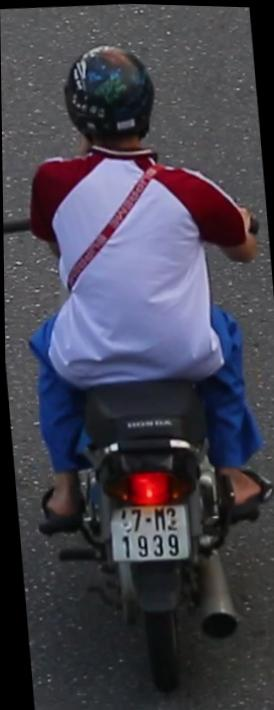LP: (104, 491, 197, 572)
helmet: (56, 33, 166, 176)
